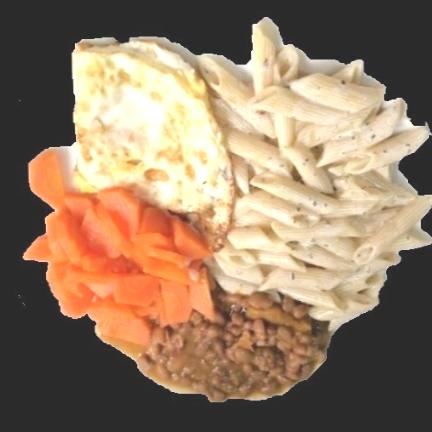beans: (133, 287, 329, 401)
carrot: (24, 151, 214, 346)
egg: (73, 42, 232, 251)
pasta: (201, 27, 432, 331)
